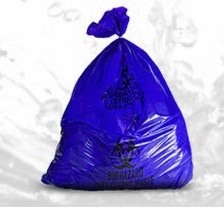plastic_bag: (34, 3, 201, 198)
